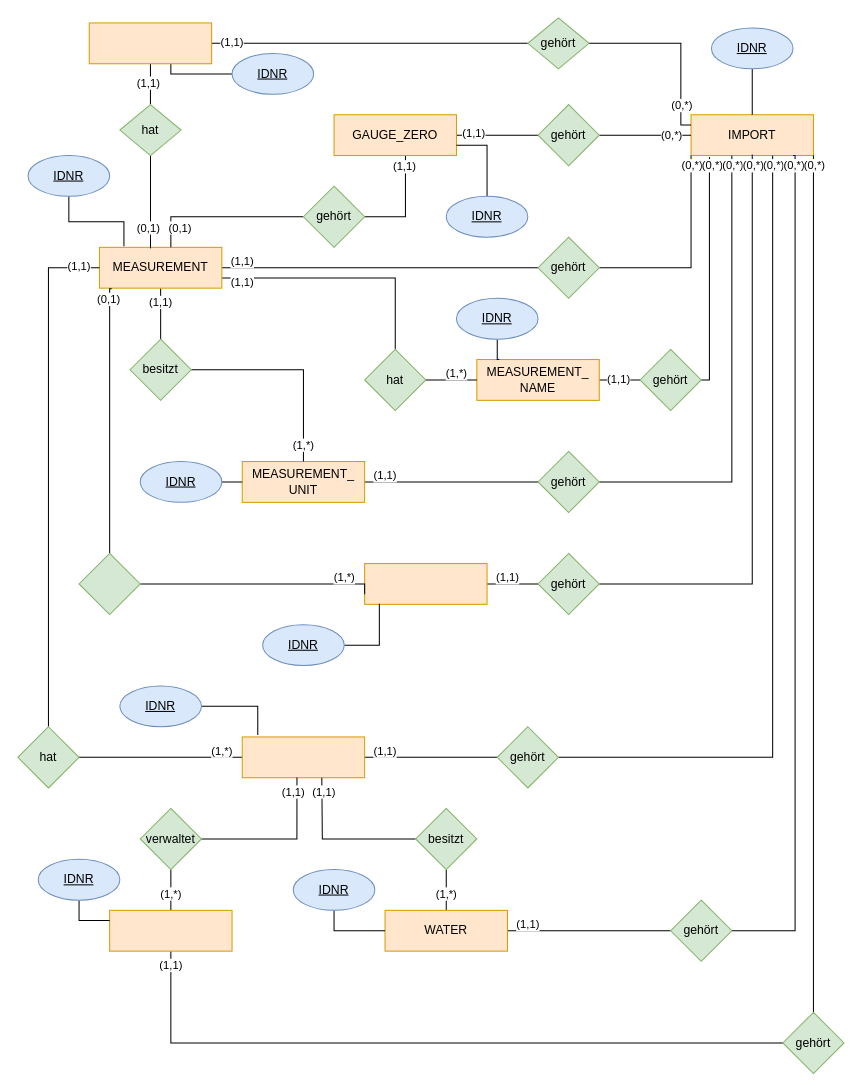
Image size: 862x1091. Some labels were removed from this diagram. Each missing label, with the centre of its shape:
AGENCY: the point at 170,930
COMMENT: the point at 150,43
enthält: the point at 109,583
STATION: the point at 303,757
WATER_STATE: the point at 425,583
